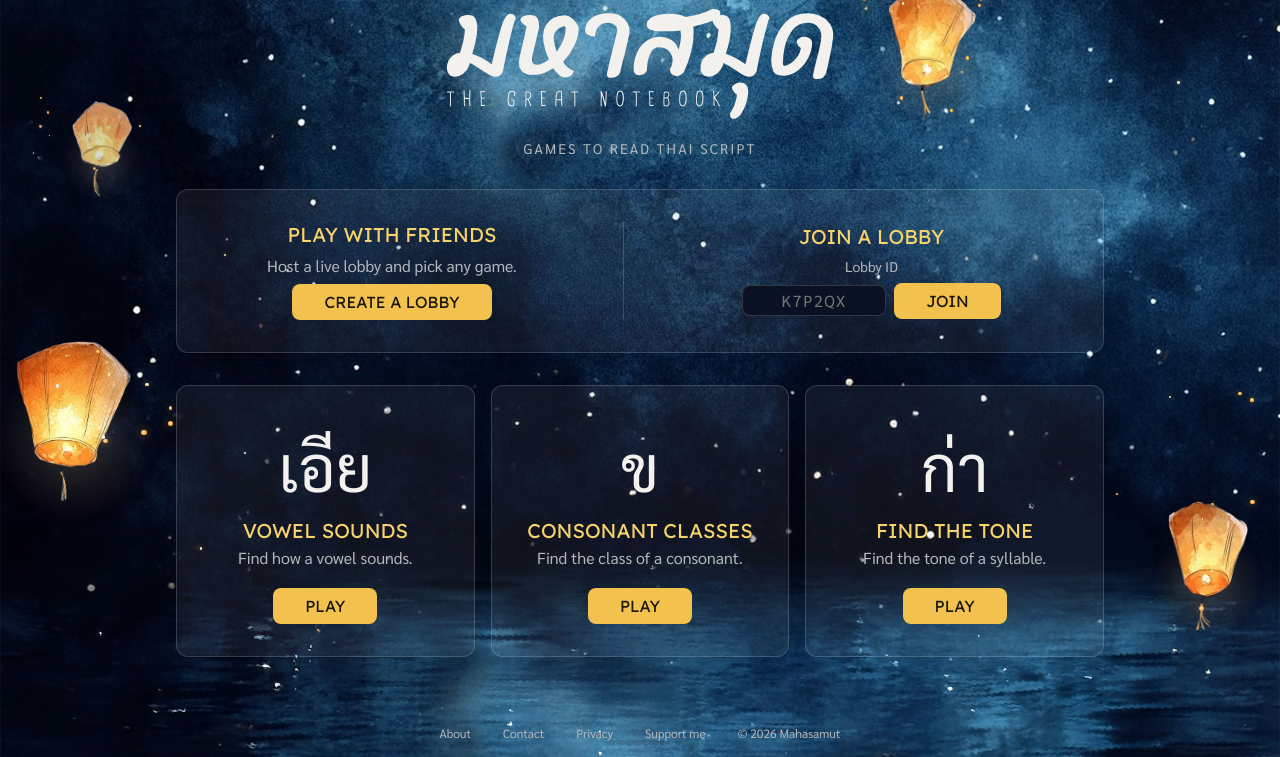
Test: App › goes from the link of the syllable game to its settings, then to the game
The image size is (1280, 757).
Click the link "ก่า Find the tone Find the tone of a syllable. Play" at (955, 521), box [805,385,1104,657]
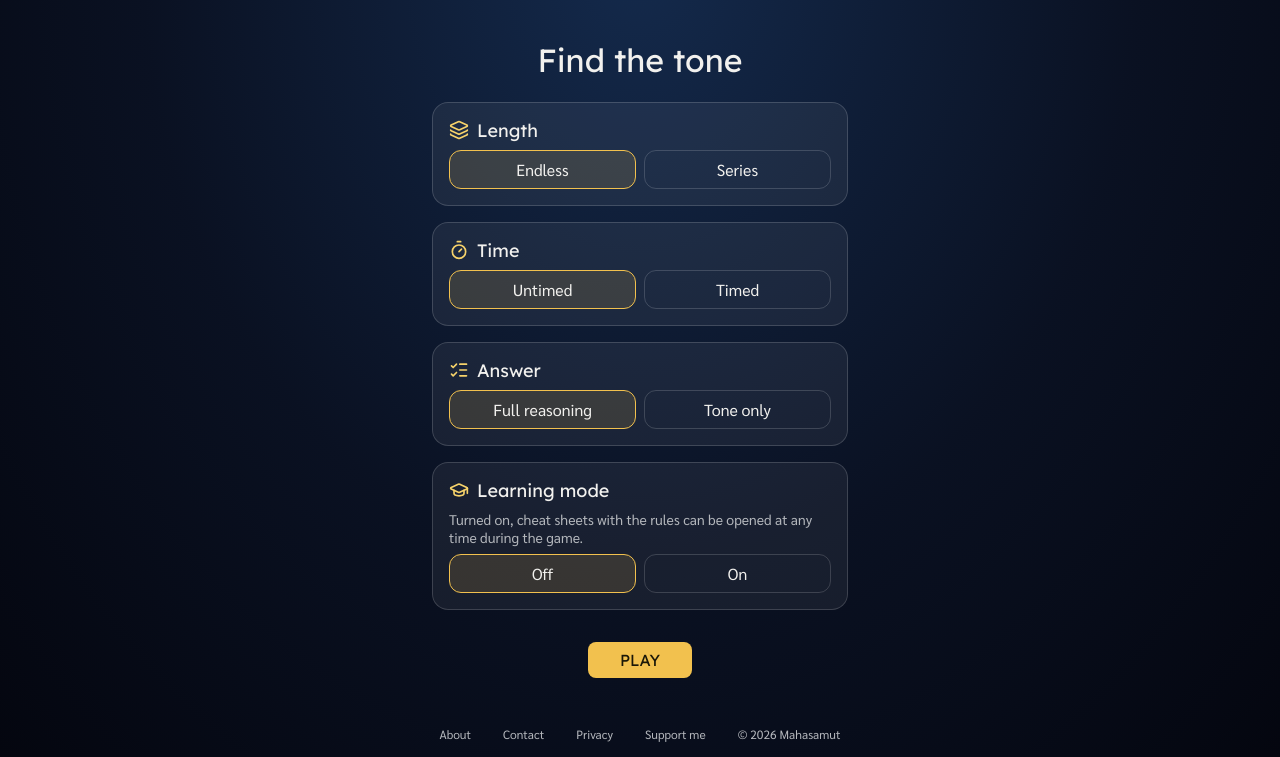
Expected: the heading "Find the tone" is shown, [538,40,743,80]
Result: the element "Answer" is shown at [432,342,848,446]
Click the button "Play" at (640, 660), box [588,642,692,678]
(page scrolled)
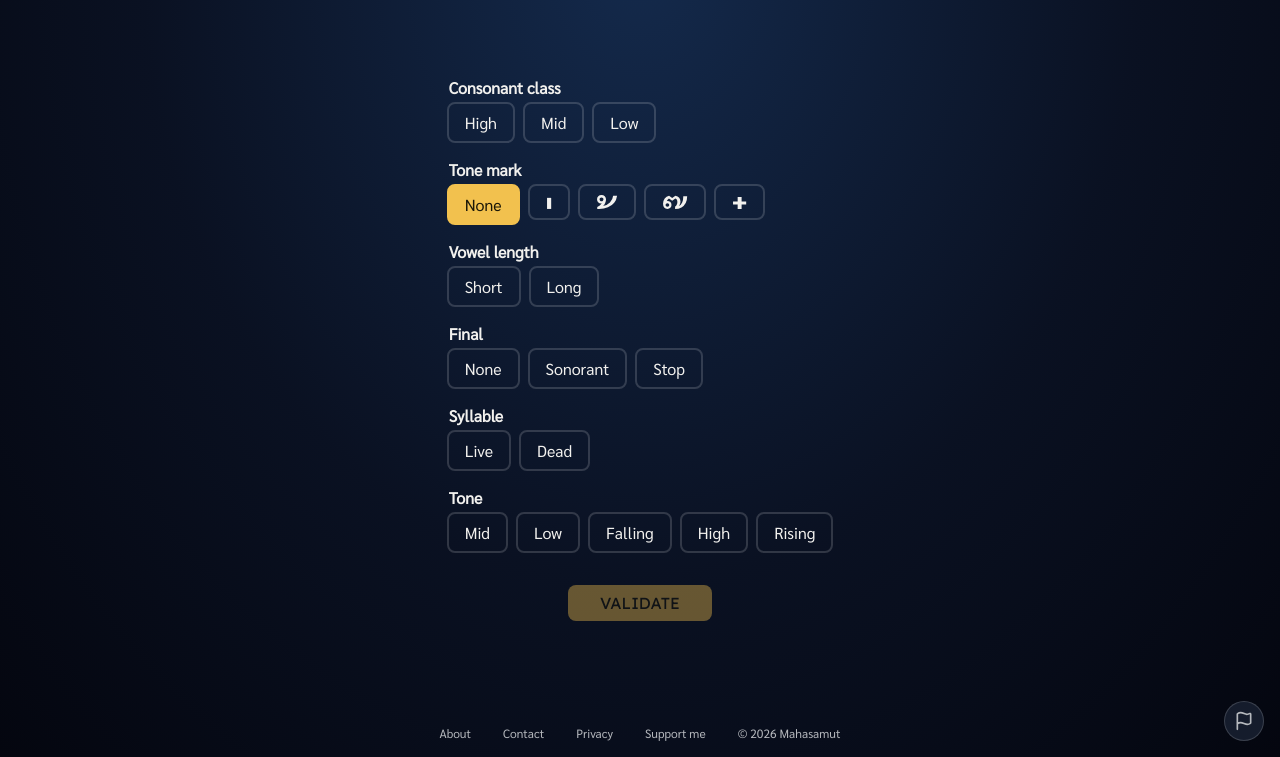
Result: the element "Tone" is shown at [447,487,833,553]
